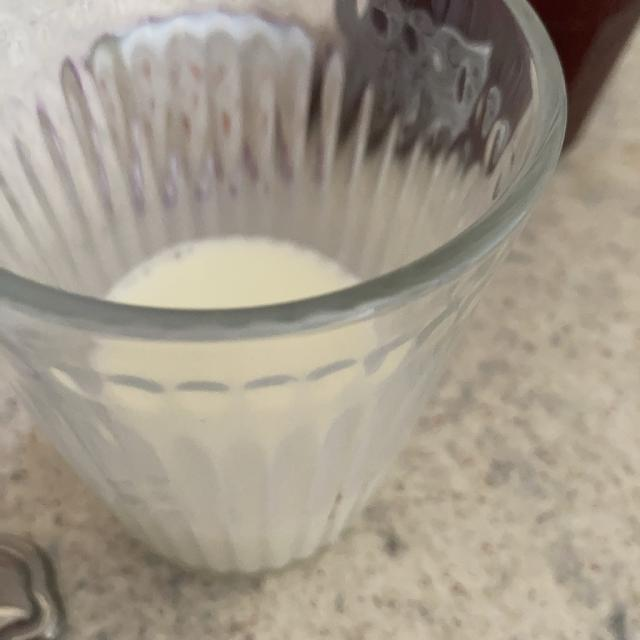milk: (32, 225, 421, 577)
